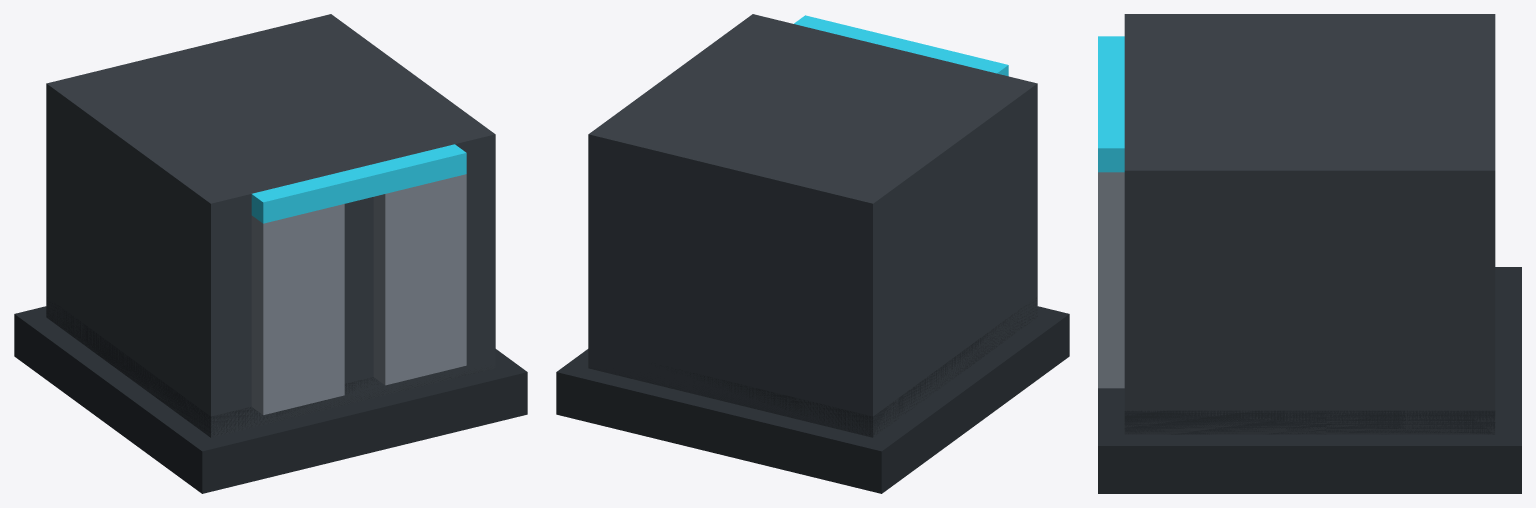
File: tile_metal_wall.glb
3 renders of one model, left to right at view 1: azimuth 30°, elevation 25°; view 2: azimuth 150°, elevation 25°; view 3: azimuth 270°, elevation 25°, orthographic. The views are drawn at different scales.
Visible parts, largest first — view 1: Wall mesh, Panel mesh, Base mesh, Strip mesh, Trim mesh; view 2: Wall mesh, Base mesh, Trim mesh, Strip mesh; view 3: Wall mesh, Base mesh, Trim mesh, Panel mesh, Strip mesh.
Boxes of the visible parts, box(x1,y1,x2,y2) form: Wall mesh: box(46, 14, 495, 437); Panel mesh: box(251, 174, 466, 415); Base mesh: box(14, 306, 527, 493); Strip mesh: box(251, 144, 466, 223); Trim mesh: box(46, 297, 486, 437); Wall mesh: box(588, 14, 1037, 437); Base mesh: box(556, 306, 1069, 493); Trim mesh: box(589, 297, 1037, 437); Strip mesh: box(794, 15, 1008, 76); Wall mesh: box(1124, 14, 1495, 434); Base mesh: box(1098, 267, 1521, 493); Trim mesh: box(1124, 410, 1495, 434); Panel mesh: box(1098, 172, 1124, 388); Strip mesh: box(1098, 36, 1124, 172).
Bounding box in the file's own units: 16 × 13 × 16.
1 material, 1 textured.
